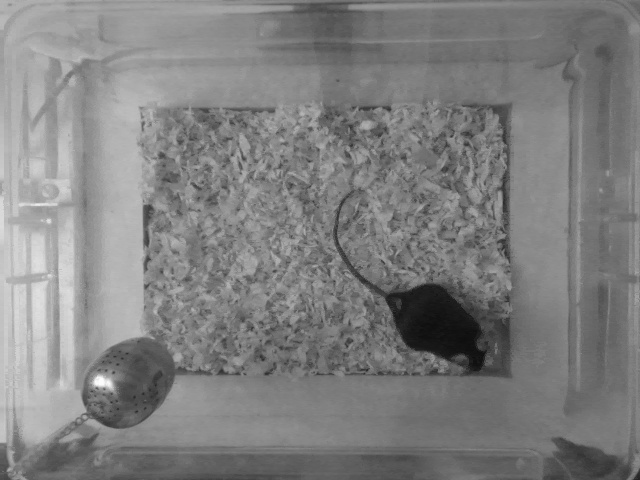mice: (333, 186, 490, 377)
